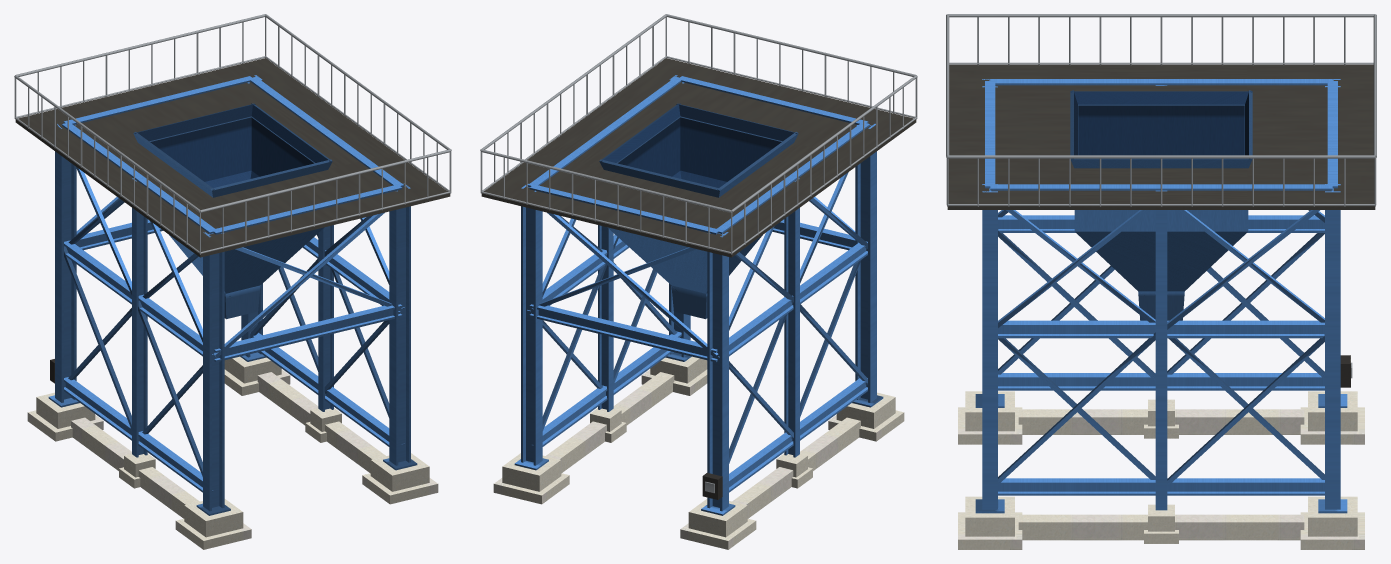
File: loading_hopper.fbx
The picture shows the model from 3 angles, left to right: view 1: azimuth 30°, elevation 25°; view 2: azimuth 150°, elevation 25°; view 3: azimuth 270°, elevation 25°; orthographic projection. The views are drawn at different scales.
Visible parts, largest first — view 1: loading_hopper; view 2: loading_hopper; view 3: loading_hopper.
Boxes of the visible parts, <box> form: loading_hopper: <box>14,14,451,549</box>; loading_hopper: <box>480,14,917,549</box>; loading_hopper: <box>946,14,1376,549</box>.
Bounding box in the file's own units: 6.5 × 8.48 × 8.3.
Materials: 1 (1 with a texture image).
